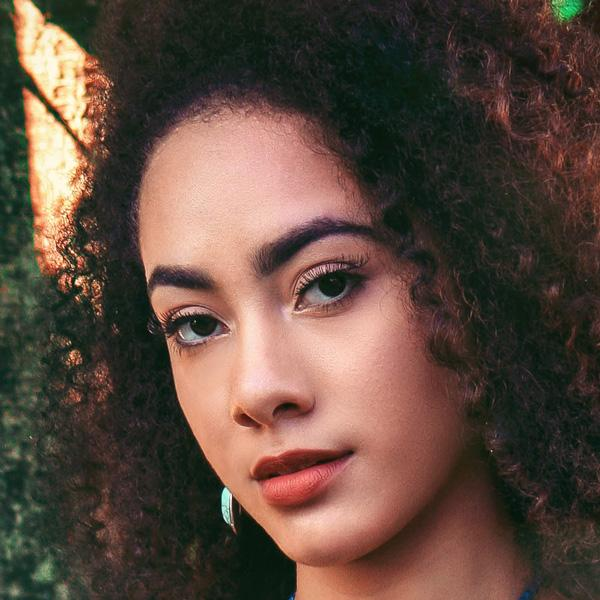Eyes: (285, 252, 379, 322), (160, 299, 239, 358)
